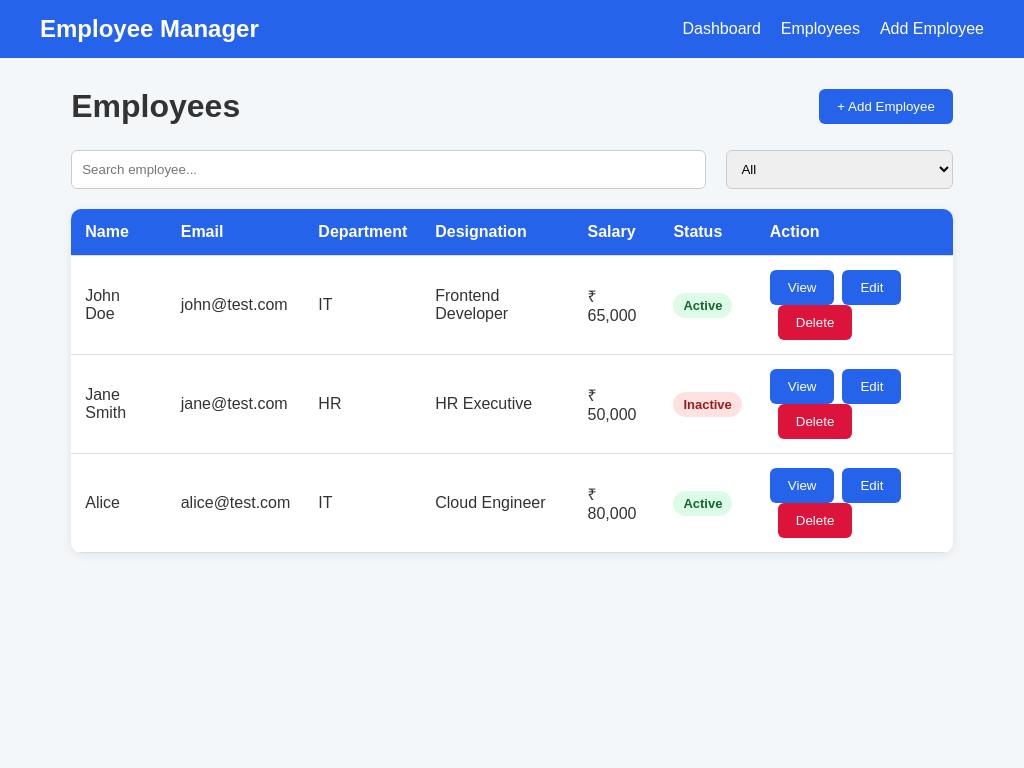
Test: Employees page › searches employees by name
Expected: the text "John Doe" is shown, [71,256,167,354]
Type "Jane" into the field with placeholder "Search employee...". click: [389, 170]
box: [71,150,706,189]
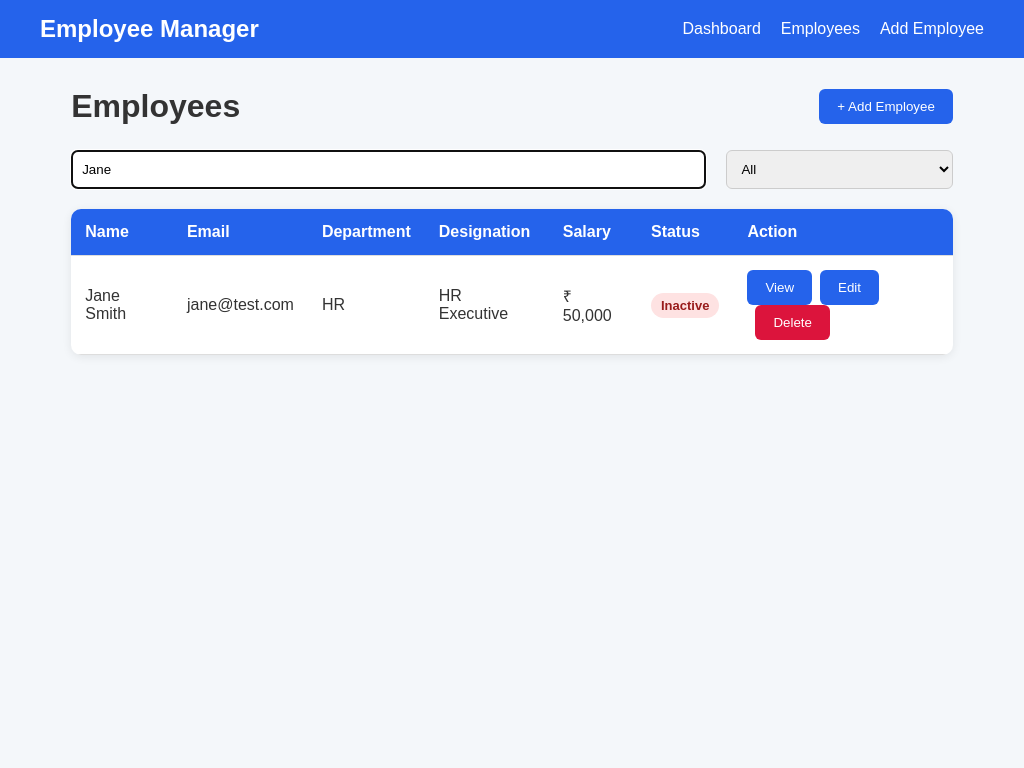
Expected: the text "Jane Smith" is shown, [71,256,173,354]
Expected: the text "John Doe" is gone
